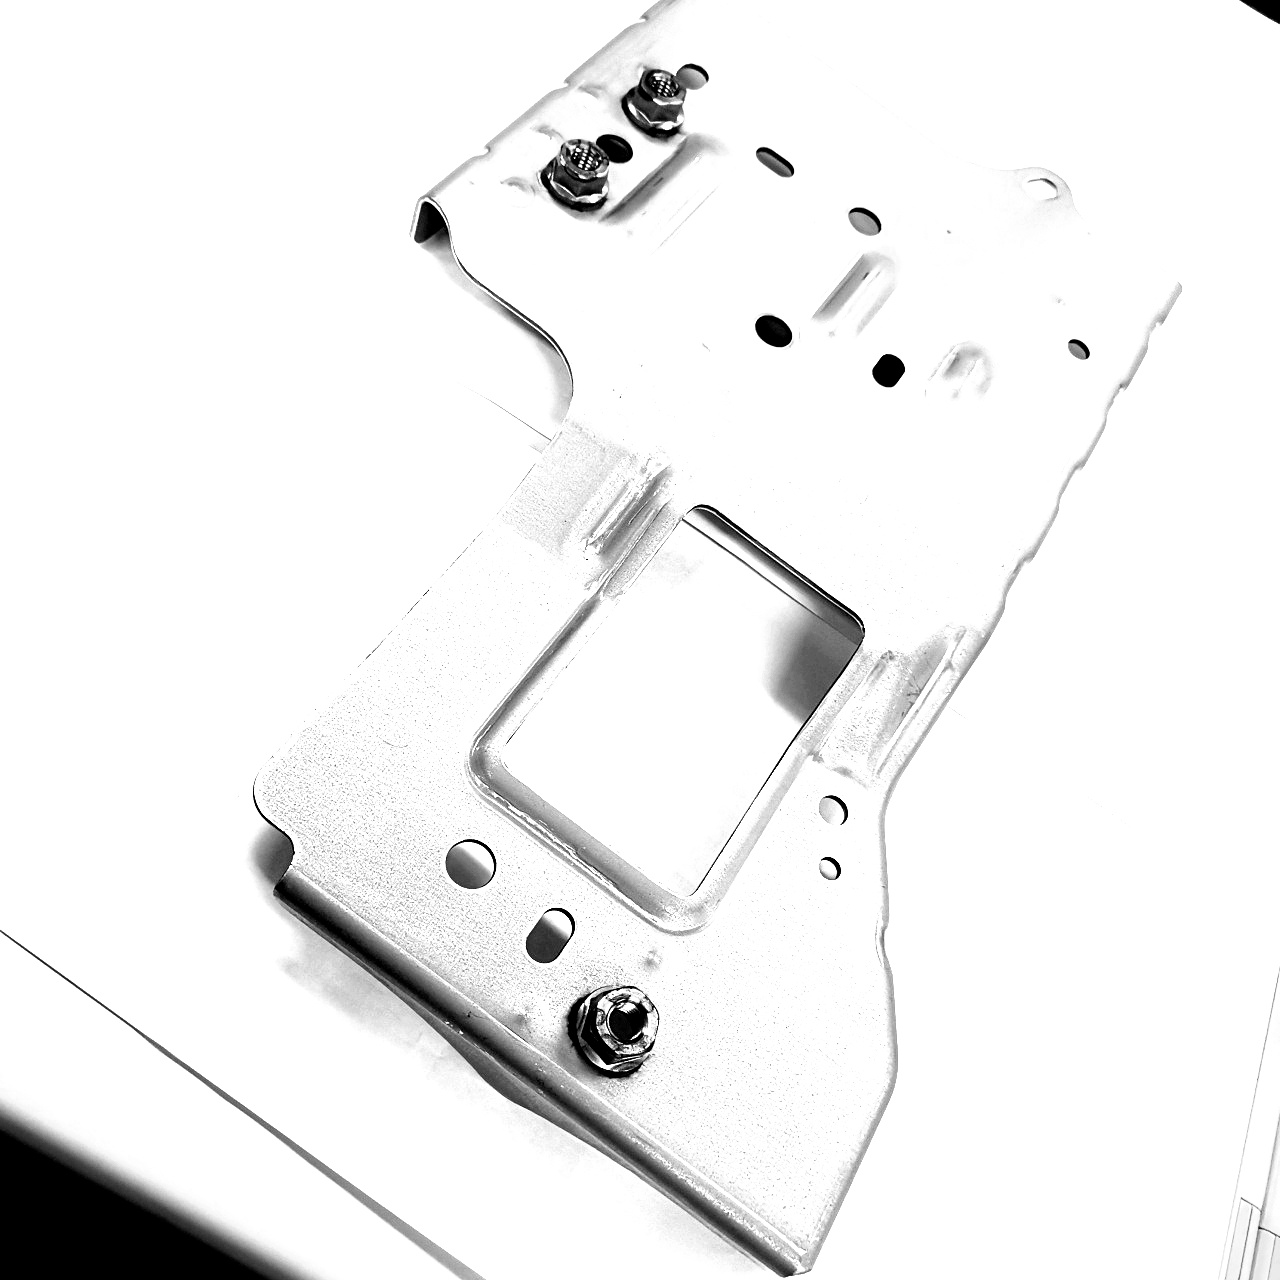dog: (561, 982, 662, 1082), (536, 134, 612, 216), (614, 66, 690, 142)
